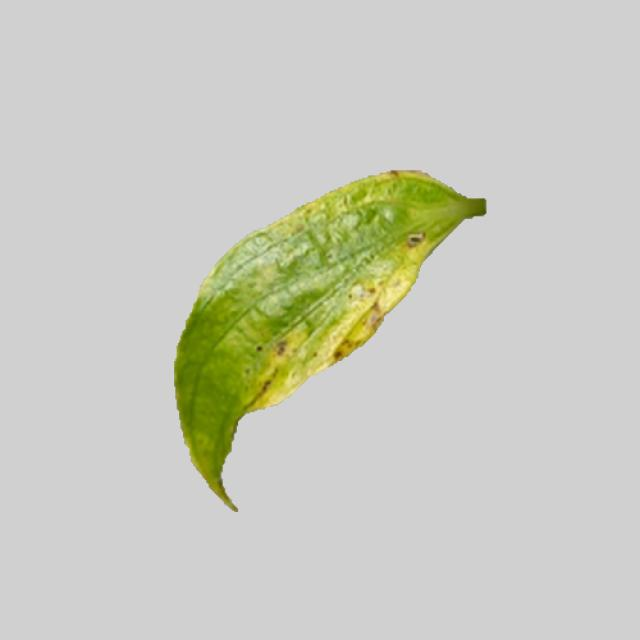yellow-mottle-virus: (164, 166, 489, 512)
